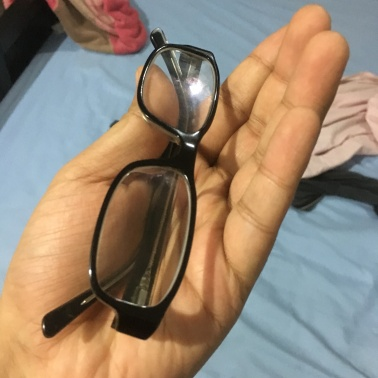glasses: (91, 26, 218, 330)
